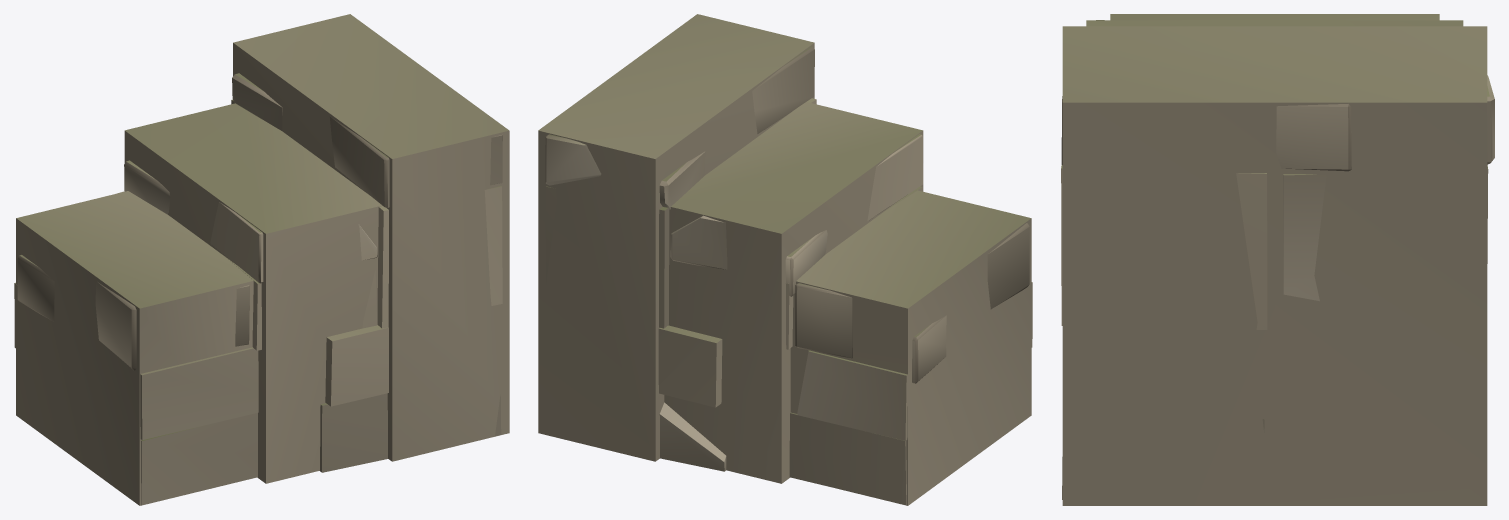
The model's file is theatre_seat_0.glb.
3 renders of one model, left to right at view 1: azimuth 30°, elevation 25°; view 2: azimuth 150°, elevation 25°; view 3: azimuth 270°, elevation 25°, orthographic. The views are drawn at different scales.
Visible parts, largest first — view 1: theatre_seat_0_far, theatre_seat_0; view 2: theatre_seat_0_far, theatre_seat_0; view 3: theatre_seat_0_far, theatre_seat_0.
Boxes of the visible parts, <box> form: theatre_seat_0_far: <box>16,14,509,505</box>; theatre_seat_0: <box>14,73,502,505</box>; theatre_seat_0_far: <box>538,14,1031,505</box>; theatre_seat_0: <box>545,46,1032,504</box>; theatre_seat_0_far: <box>1062,14,1487,505</box>; theatre_seat_0: <box>1061,20,1494,499</box>.
Bounding box in the file's own units: 8.56 × 6.91 × 6.73.
